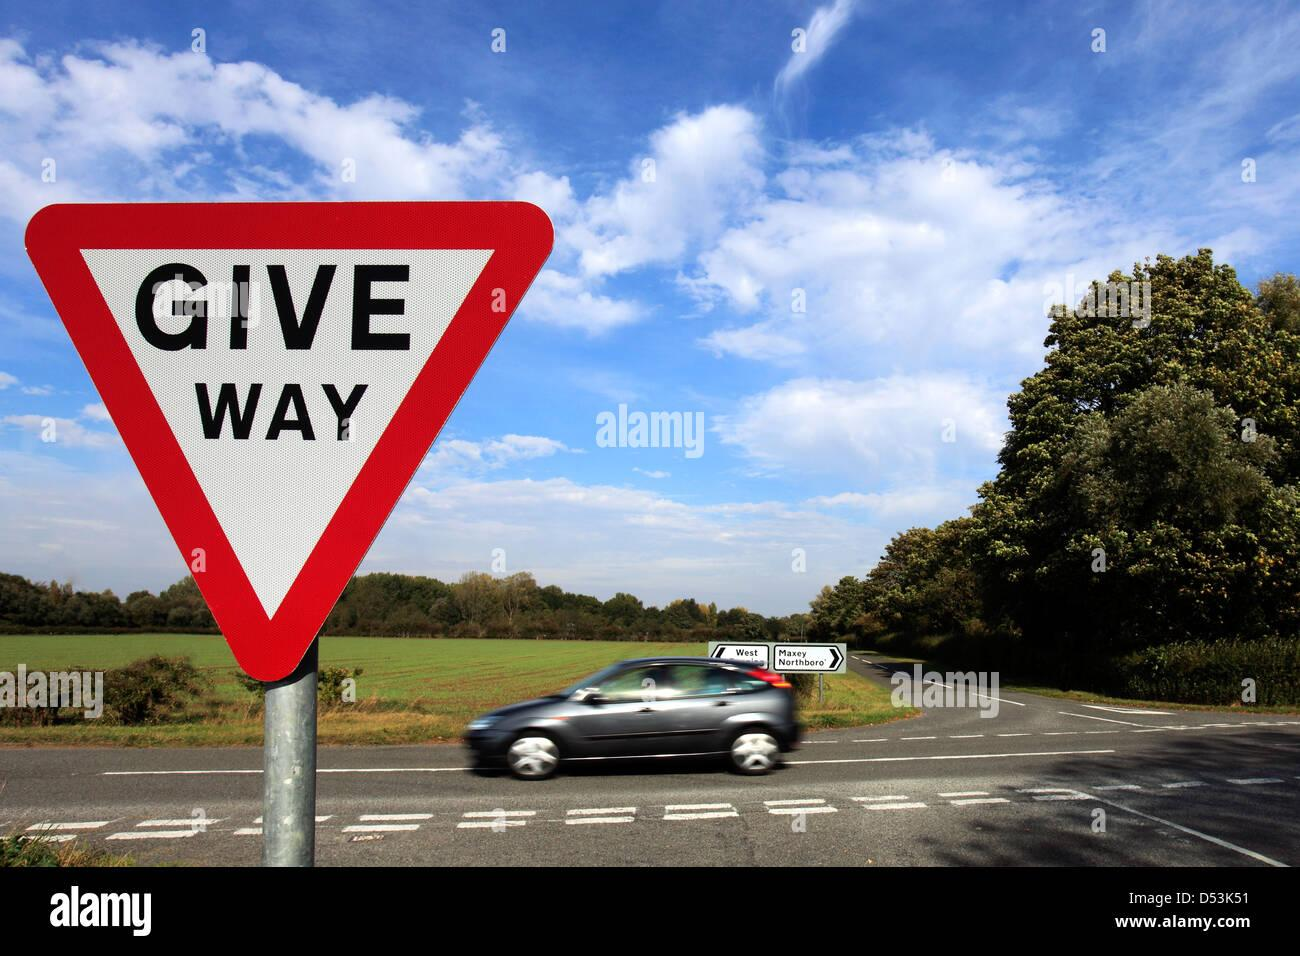give-way: (25, 202, 575, 664)
